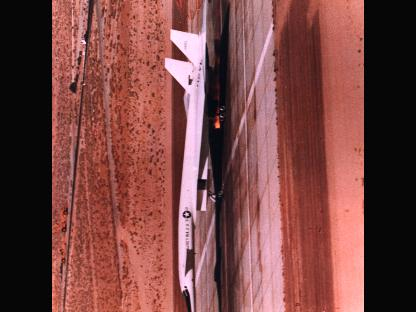U2: (164, 0, 226, 311)
